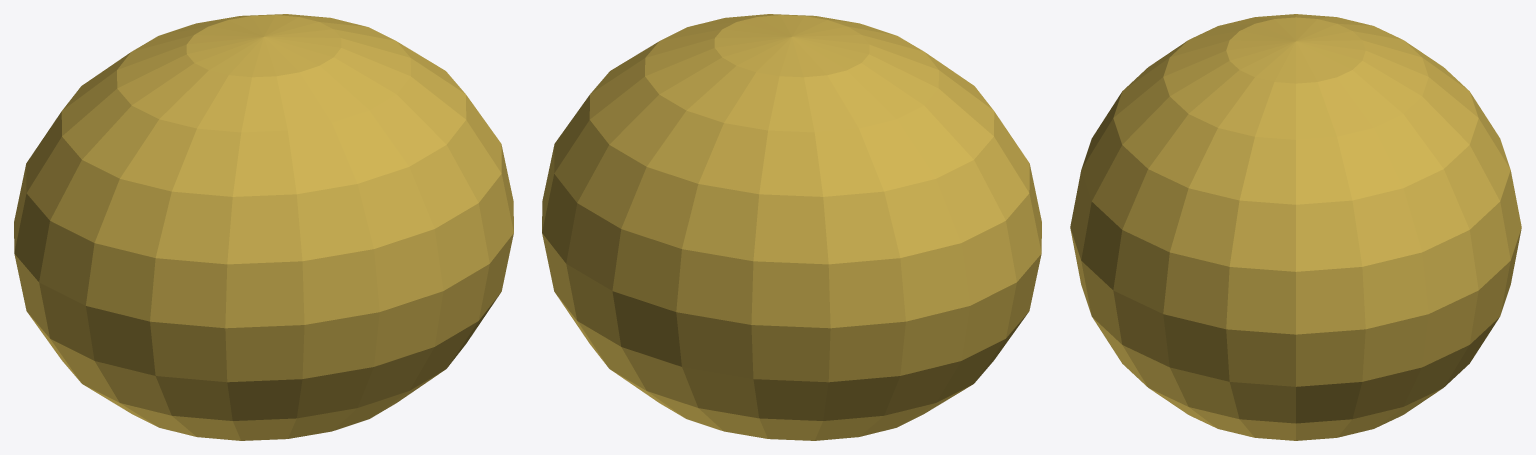
Rendered from gclownhair.glb.
3 views of the same model, side by side, from view 1: azimuth 30°, elevation 25°; view 2: azimuth 150°, elevation 25°; view 3: azimuth 270°, elevation 25° (orthographic). The views are drawn at different scales.
Parts seen in each view (by area): view 1: Gold Clown Hair.002; view 2: Gold Clown Hair.002; view 3: Gold Clown Hair.002.
Part boxes in pixels (box(x1,y1,x2,y2)): Gold Clown Hair.002: box(14, 14, 513, 440); Gold Clown Hair.002: box(542, 14, 1041, 440); Gold Clown Hair.002: box(1070, 14, 1521, 440).
Bounding box in the file's own units: 0.6963 × 0.564 × 0.6203.
